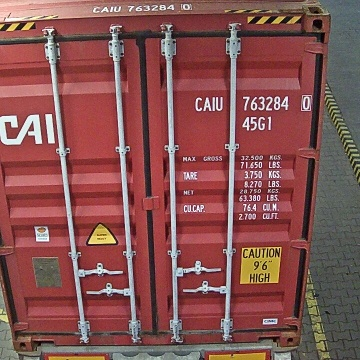serial_id: (195, 95, 311, 110)
